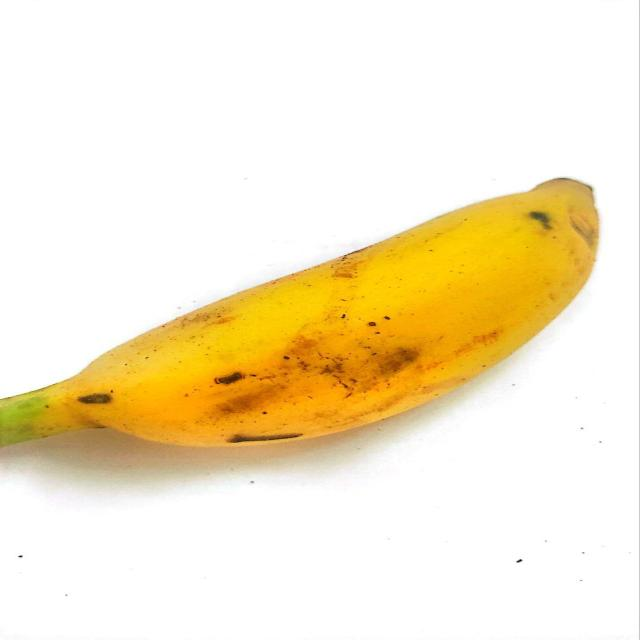fresh_banana: (2, 178, 594, 460)
